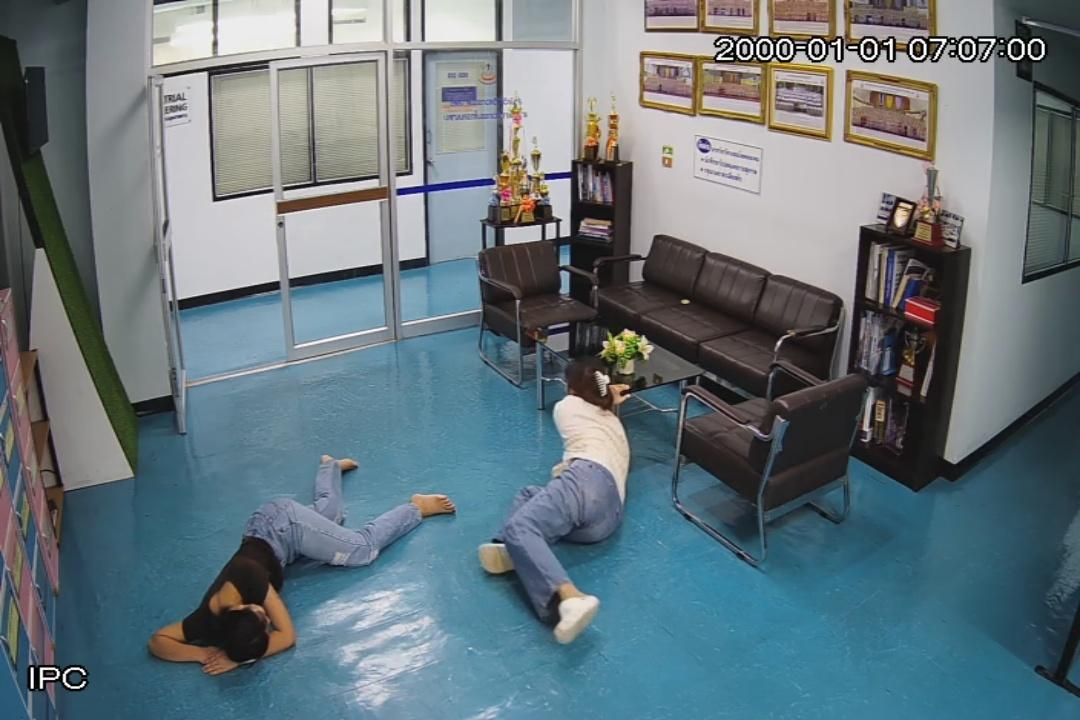fall: (149, 455, 455, 667), (478, 361, 631, 642)
